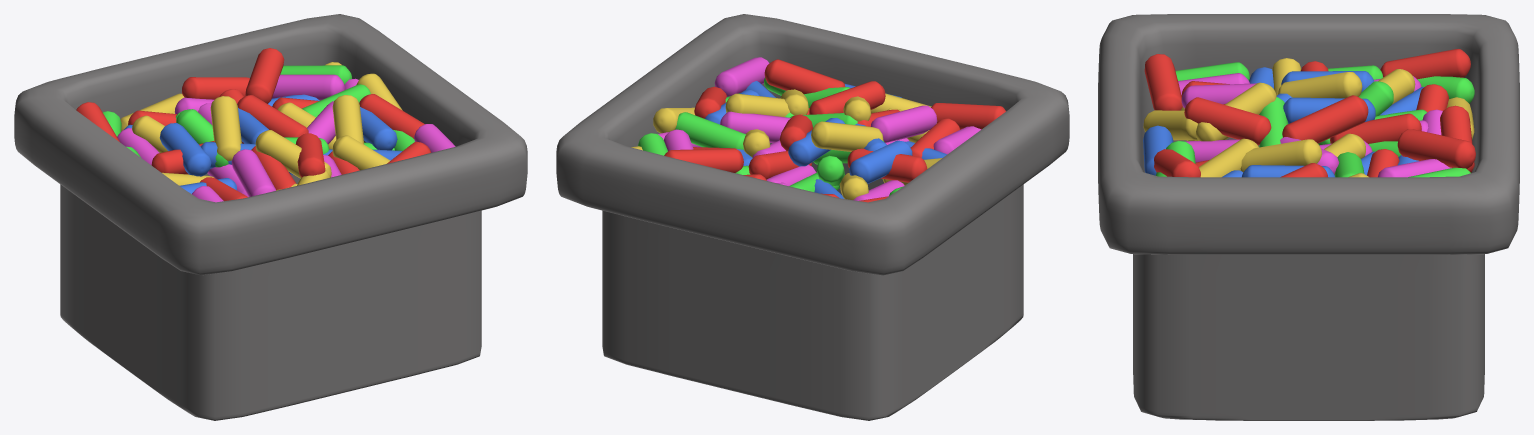
Rendered from CuencoPepitasColorines.fbx.
3 renders of one model, left to right at view 1: azimuth 30°, elevation 25°; view 2: azimuth 150°, elevation 25°; view 3: azimuth 270°, elevation 25°, orthographic. The views are drawn at different scales.
Visible parts, largest first — view 1: Cuenco, Pepitas; view 2: Cuenco, Pepitas; view 3: Cuenco, Pepitas.
Boxes of the visible parts, <box> form: Cuenco: <box>14,14,527,420</box>; Pepitas: <box>76,48,455,202</box>; Cuenco: <box>556,14,1069,420</box>; Pepitas: <box>631,57,1005,202</box>; Cuenco: <box>1098,14,1519,420</box>; Pepitas: <box>1143,49,1475,177</box>.
Bounding box in the file's own units: 253 × 161 × 240.
